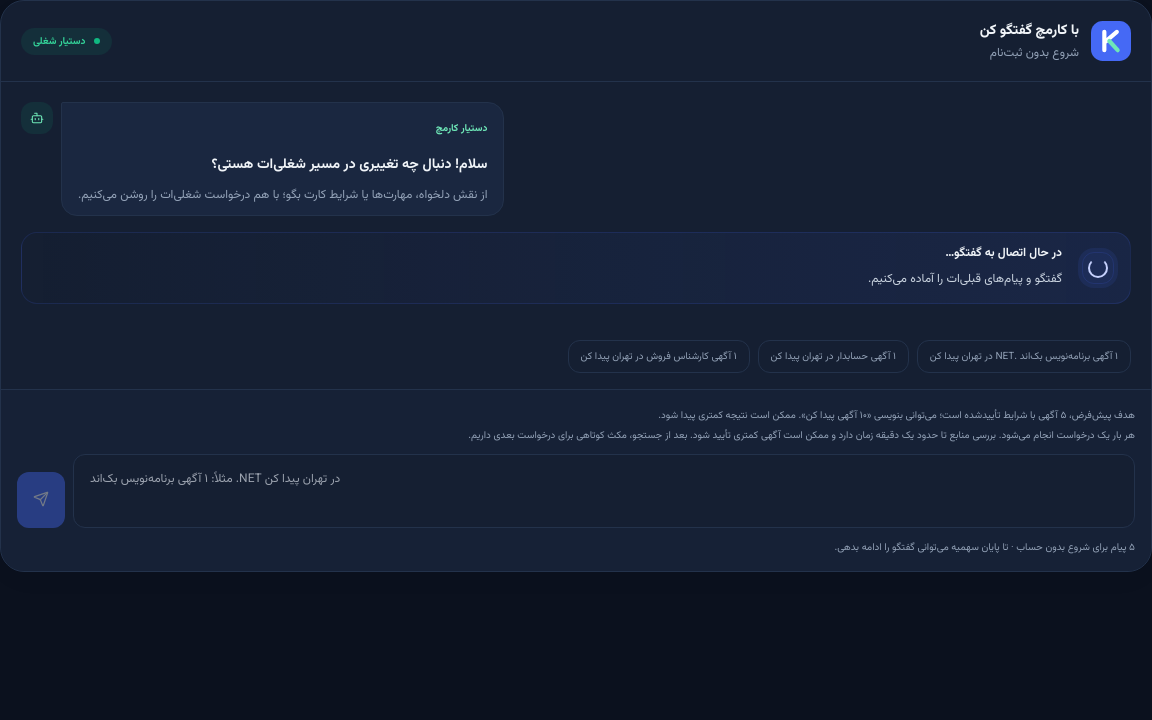
Test: Guest conversation › recovers a committed matching turn after losing the stream without posting twice
The width and height of the screenshot is (1152, 720).
Type "Backend" into the text box named "پیام شما" at (604, 491), box x1=73 y1=454 x2=1135 y2=528
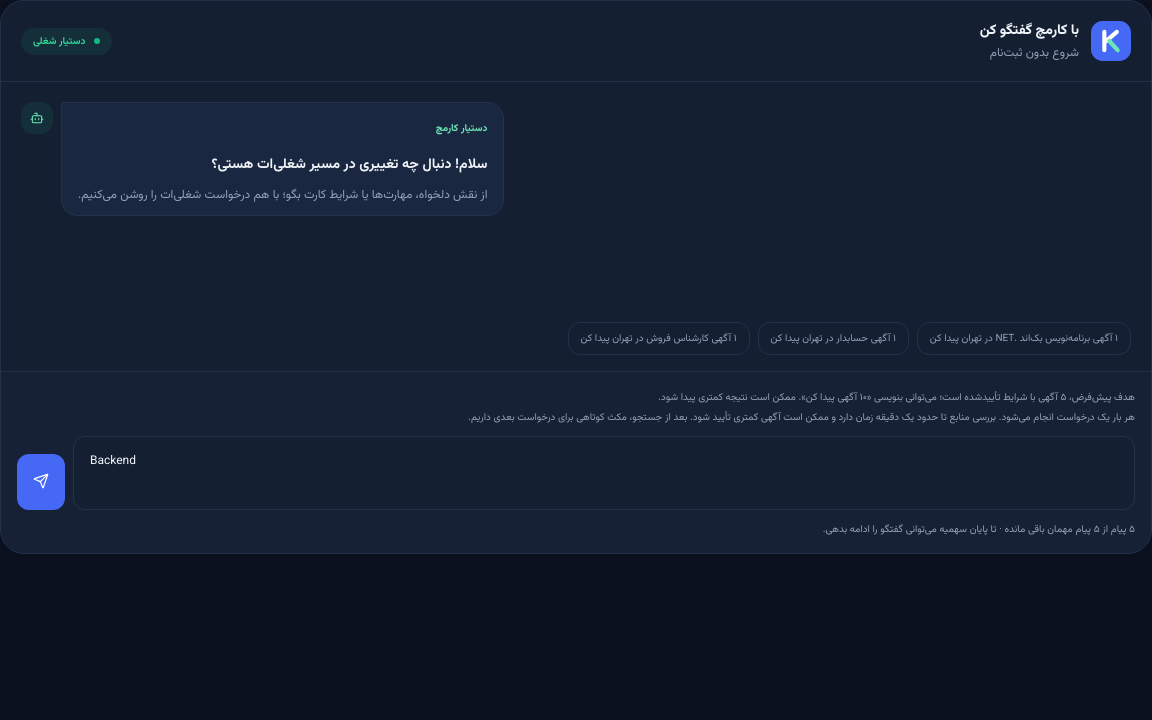
Expected: the button named "ارسال پیام" is enabled
Click the button named "ارسال پیام" at (41, 482), box x1=17 y1=454 x2=65 y2=510
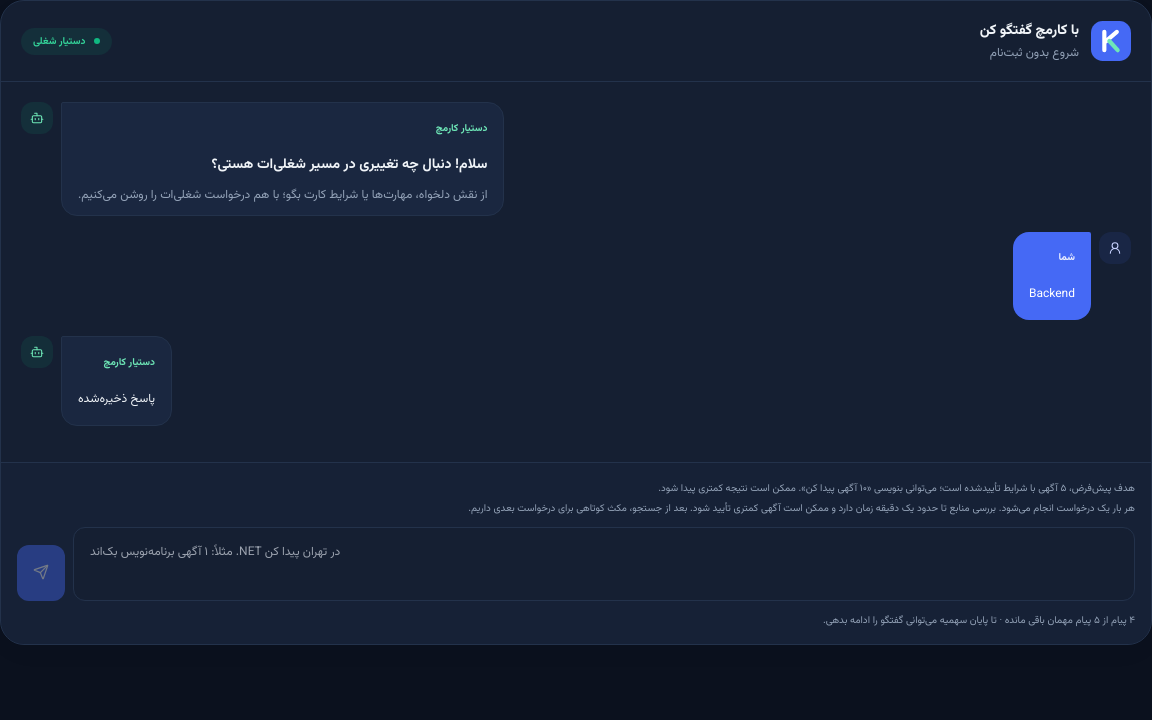
Expected: the message "در حال اتصال به گفتگو… گفتگو و پیام‌های قبلی‌ات را آماده می‌کنیم." is not shown
Expected: the text "پاسخ ذخیره‌شده" is shown, x1=78 y1=385 x2=155 y2=413
Expected: the text box named "پیام شما" is empty, x1=73 y1=527 x2=1135 y2=601
